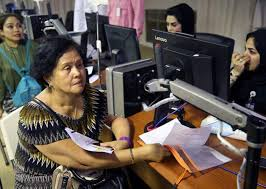middle_eastern_Female: (47, 53, 91, 89)
